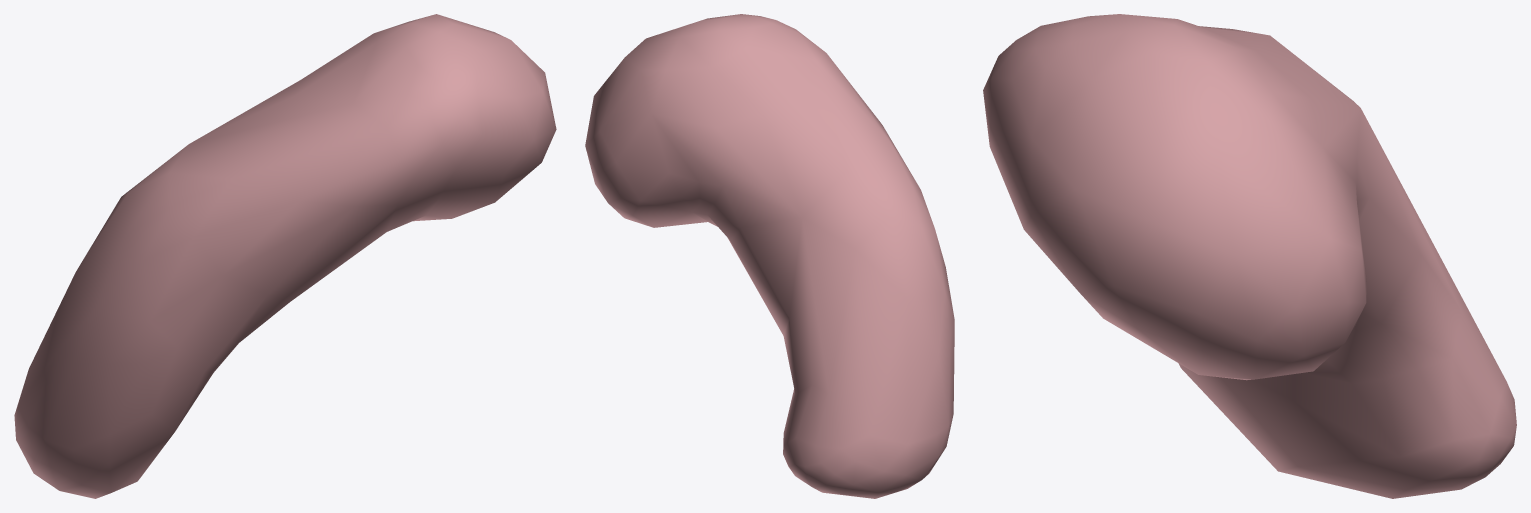
Rendered from fma14965_fj2580.glb.
The picture shows the model from 3 angles, left to right: view 1: azimuth 30°, elevation 25°; view 2: azimuth 150°, elevation 25°; view 3: azimuth 270°, elevation 25°; orthographic projection. The views are drawn at different scales.
Visible parts, largest first — view 1: FMA14965_FJ2580; view 2: FMA14965_FJ2580; view 3: FMA14965_FJ2580.
Part boxes in pixels (x1,y1,x2,y2): FMA14965_FJ2580: (14,14,556,498); FMA14965_FJ2580: (585,14,954,498); FMA14965_FJ2580: (983,14,1516,498).
Size of the model in its own units: 0.0501 by 0.0464 by 0.0351.
